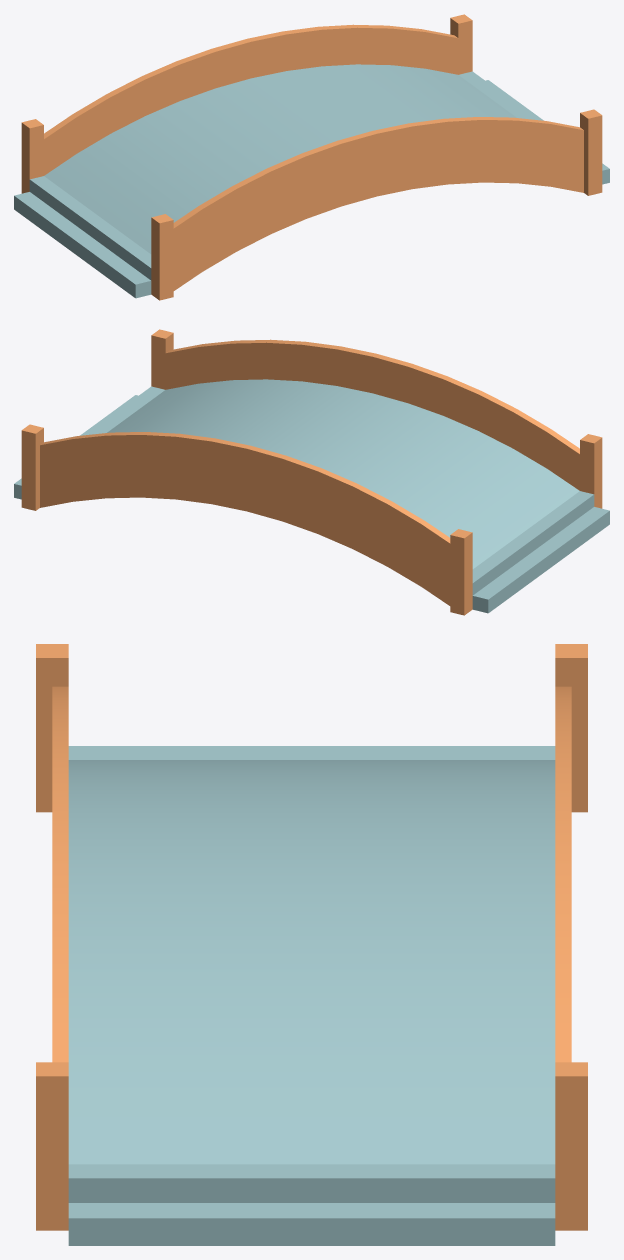
Rendered from bridge_arch.fbx.
The picture shows the model from 3 angles, top to bottom: view 1: azimuth 30°, elevation 25°; view 2: azimuth 150°, elevation 25°; view 3: azimuth 270°, elevation 25°; orthographic projection. The views are drawn at different scales.
Visible parts, largest first — view 1: bridge_arch; view 2: bridge_arch; view 3: bridge_arch.
Boxes of the visible parts, <box> form: bridge_arch: <box>14,14,609,300</box>; bridge_arch: <box>14,329,609,615</box>; bridge_arch: <box>36,644,587,1245</box>.
Bounding box in the file's own units: 9.5 × 2.1 × 4.78.
